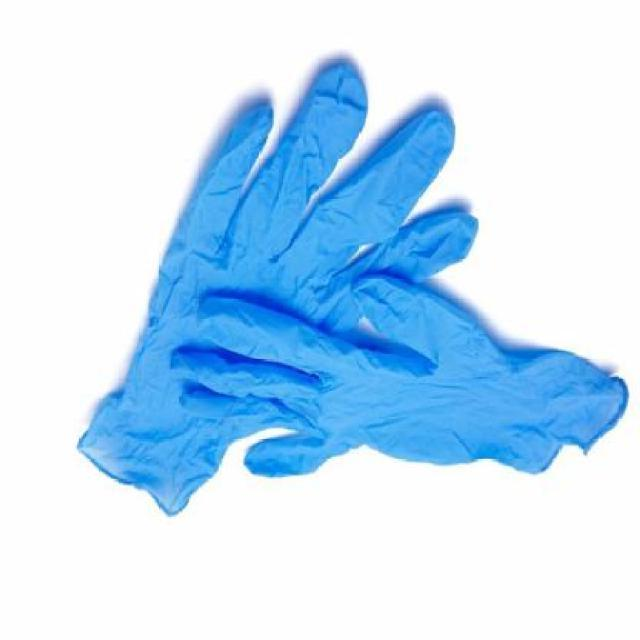gloved_hand: (74, 48, 628, 526)
